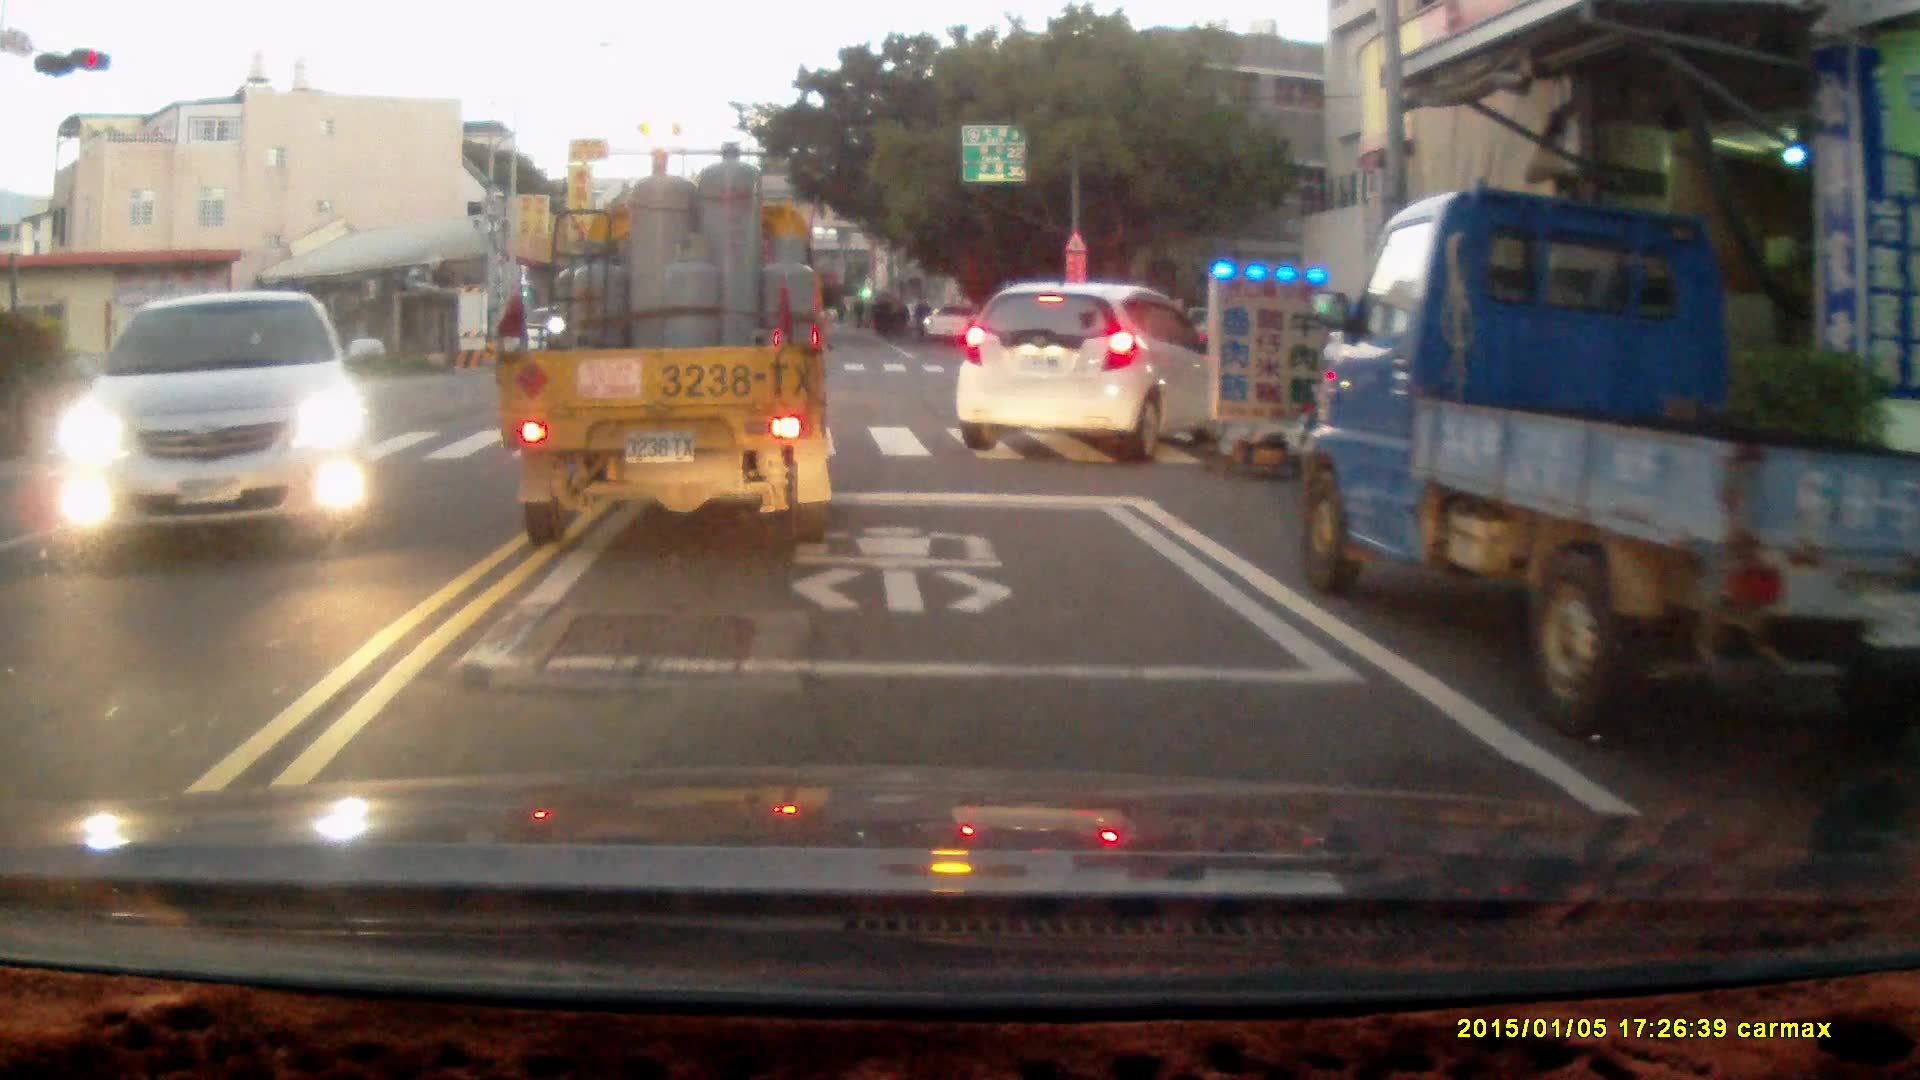vehicle: (1298, 186, 1917, 756), (502, 145, 841, 553), (45, 290, 367, 560), (953, 281, 1220, 465)
